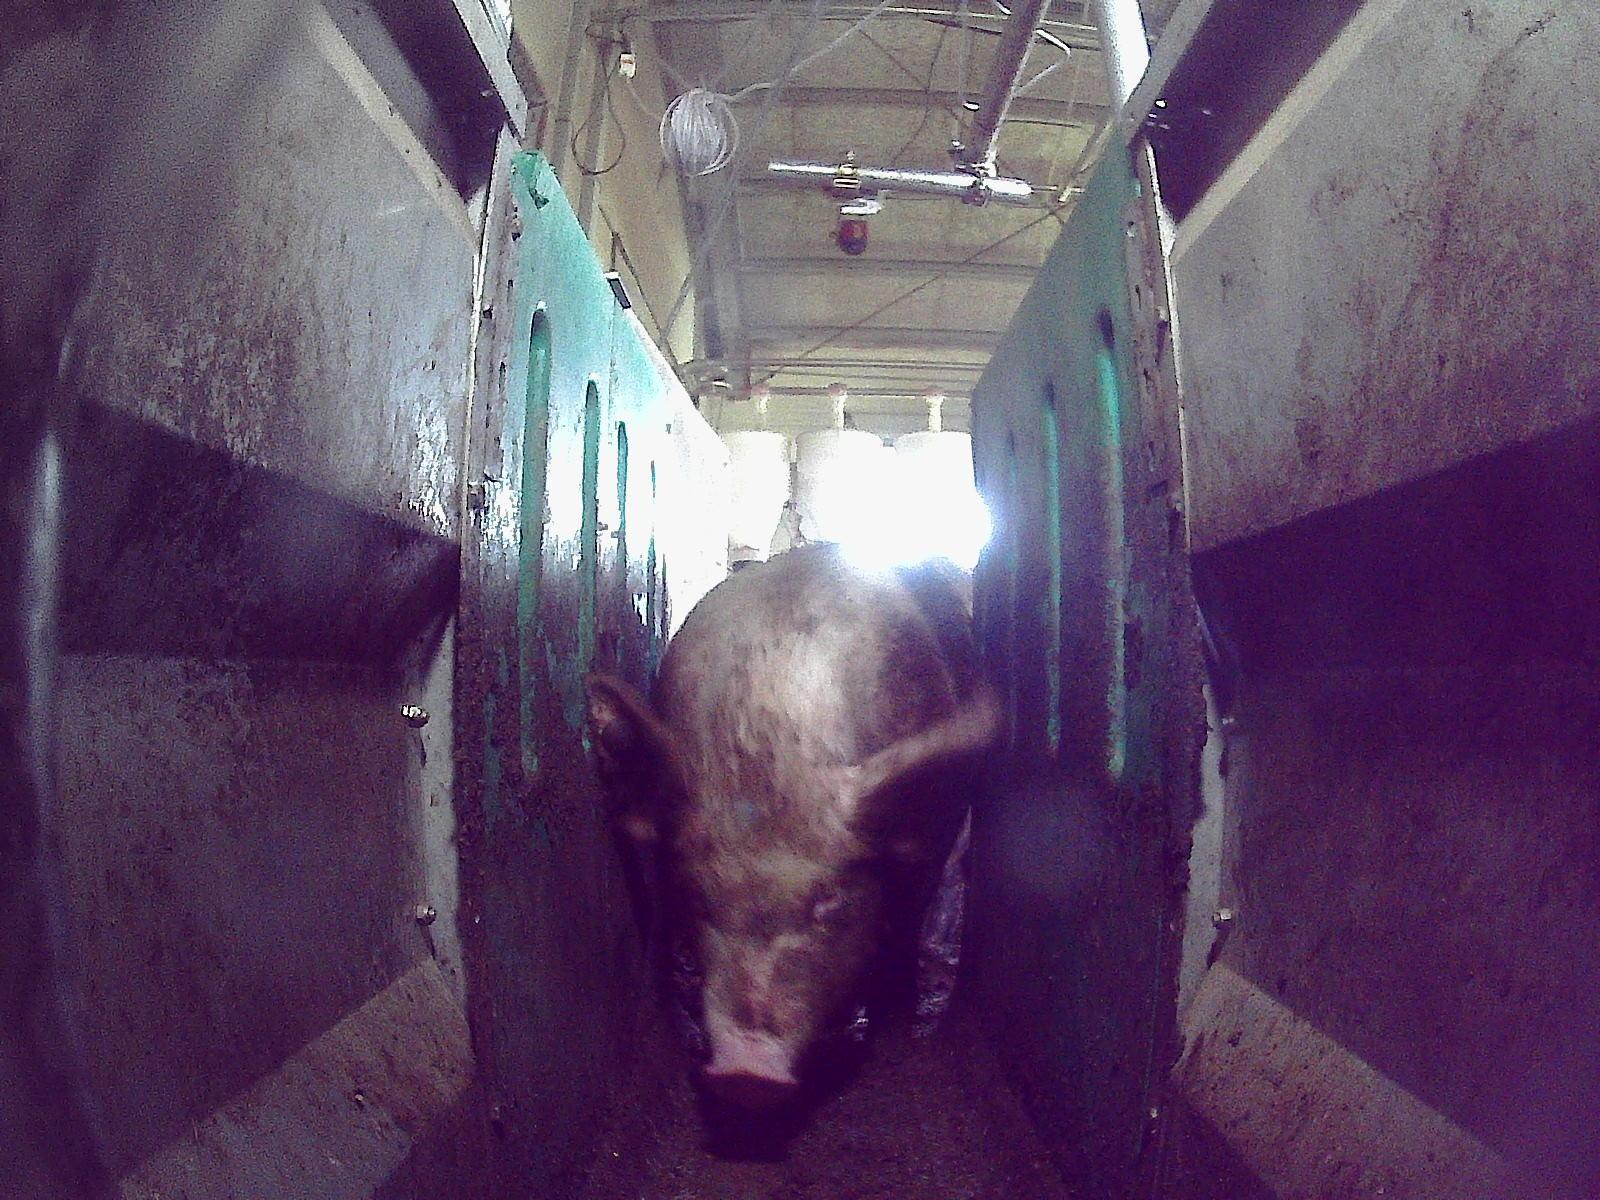Face: (668, 722, 899, 1111)
